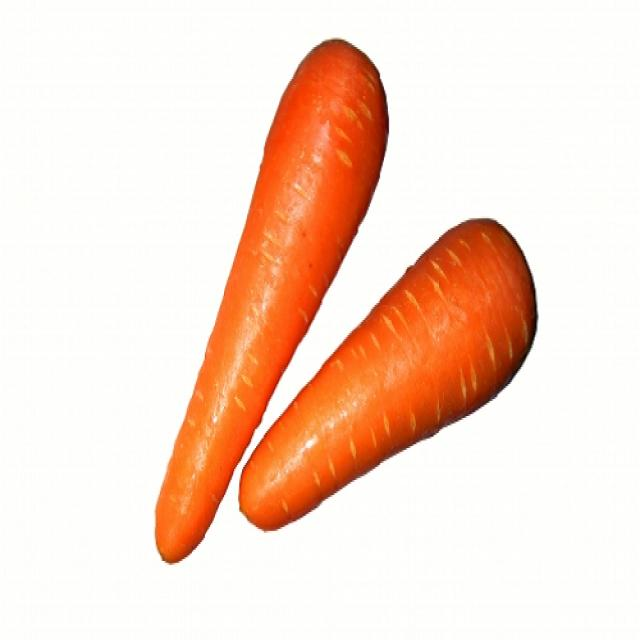Carrot: (159, 28, 390, 574), (238, 215, 542, 518)
